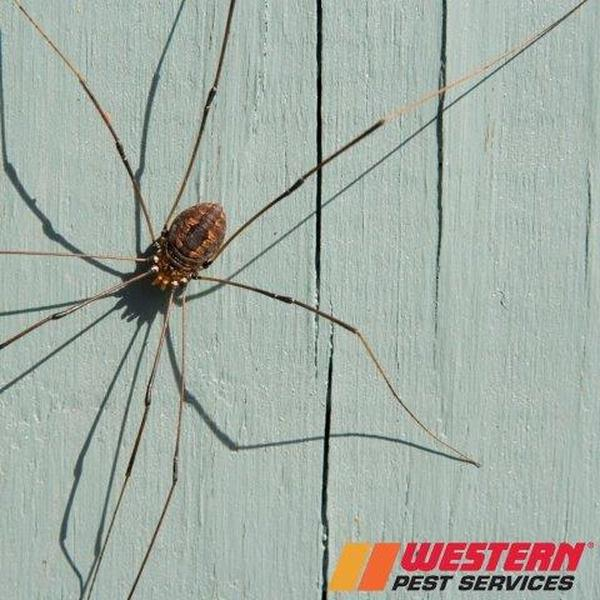Daddy Long Legs Spider: (3, 2, 517, 551)
